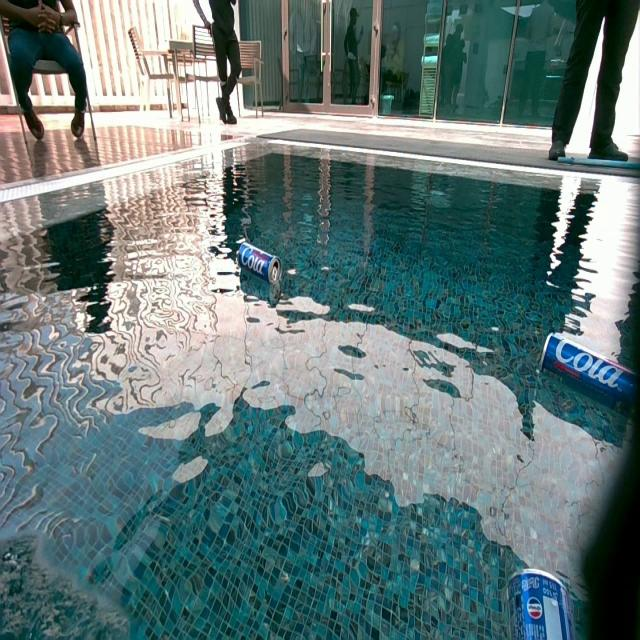Cans: (537, 336, 639, 414), (505, 567, 577, 637), (238, 244, 281, 286)
